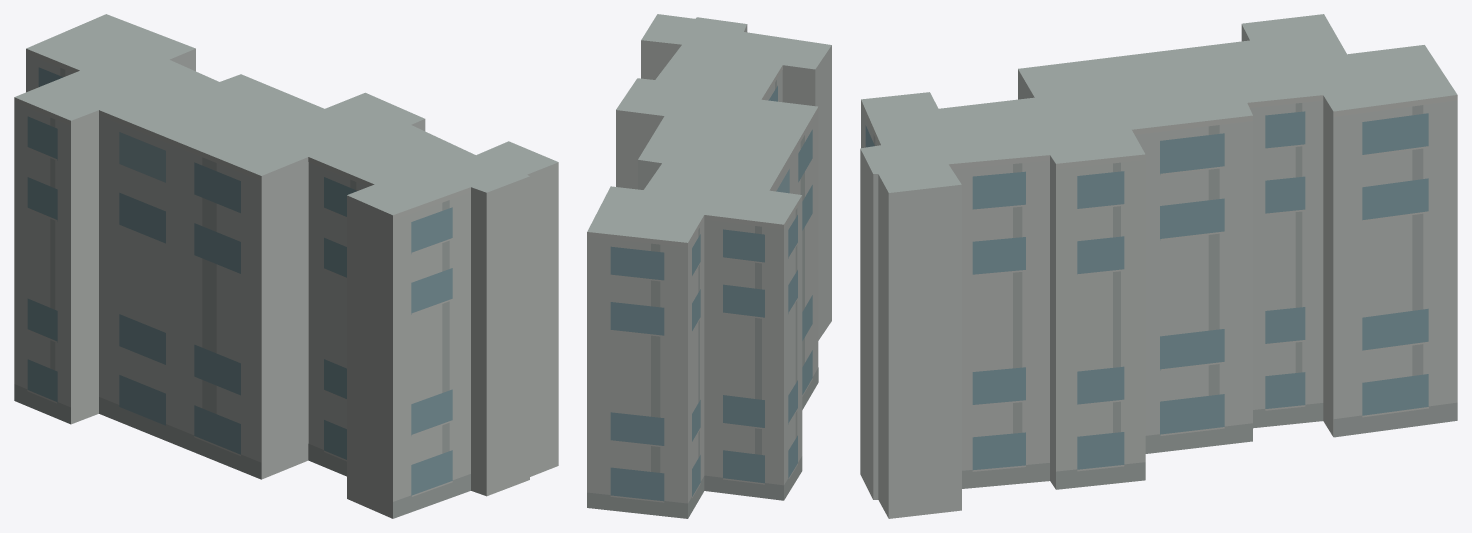
Rendered from survey-upis-32805505.glb.
3 views of the same model, side by side, from view 1: azimuth 30°, elevation 25°; view 2: azimuth 150°, elevation 25°; view 3: azimuth 270°, elevation 25° (orthographic). The views are drawn at different scales.
Parts seen in each view (by area): view 1: survey-upis-32805505.tmp; view 2: survey-upis-32805505.tmp; view 3: survey-upis-32805505.tmp.
Boxes of the visible parts, bbox=[...] form: survey-upis-32805505.tmp: bbox=[14, 14, 558, 518]; survey-upis-32805505.tmp: bbox=[587, 14, 831, 518]; survey-upis-32805505.tmp: bbox=[860, 14, 1457, 518].
Bounding box in the file's own units: 16.74 × 14.2 × 23.59.
